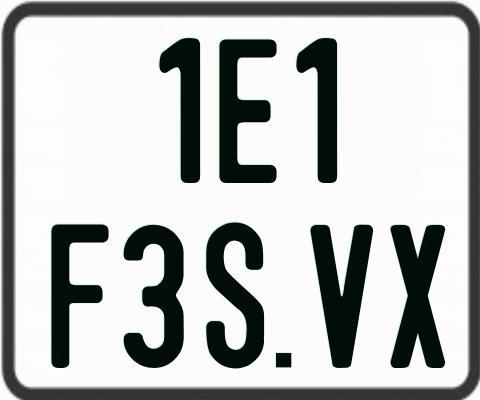1: (157, 38, 203, 185), (295, 38, 339, 184)
3: (122, 222, 185, 365)
E: (218, 36, 280, 185)
F: (48, 224, 109, 368)
S: (205, 221, 267, 371)
V: (309, 223, 377, 372)
X: (390, 222, 449, 371)
